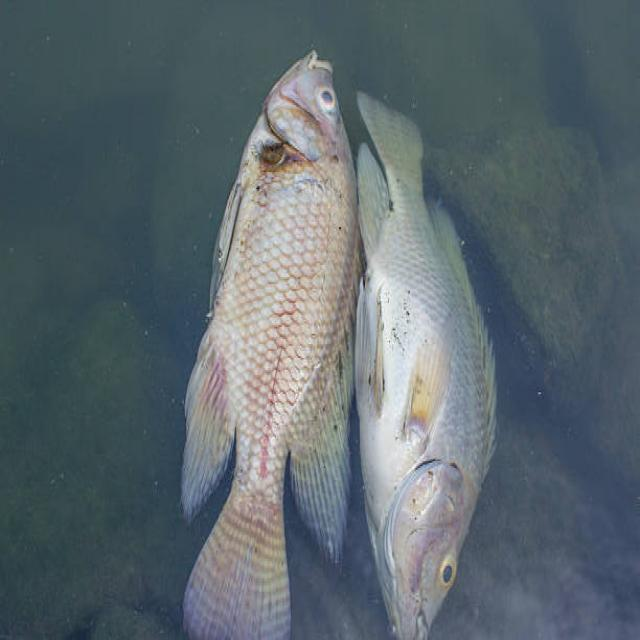EUS Disease: (184, 49, 498, 640)
